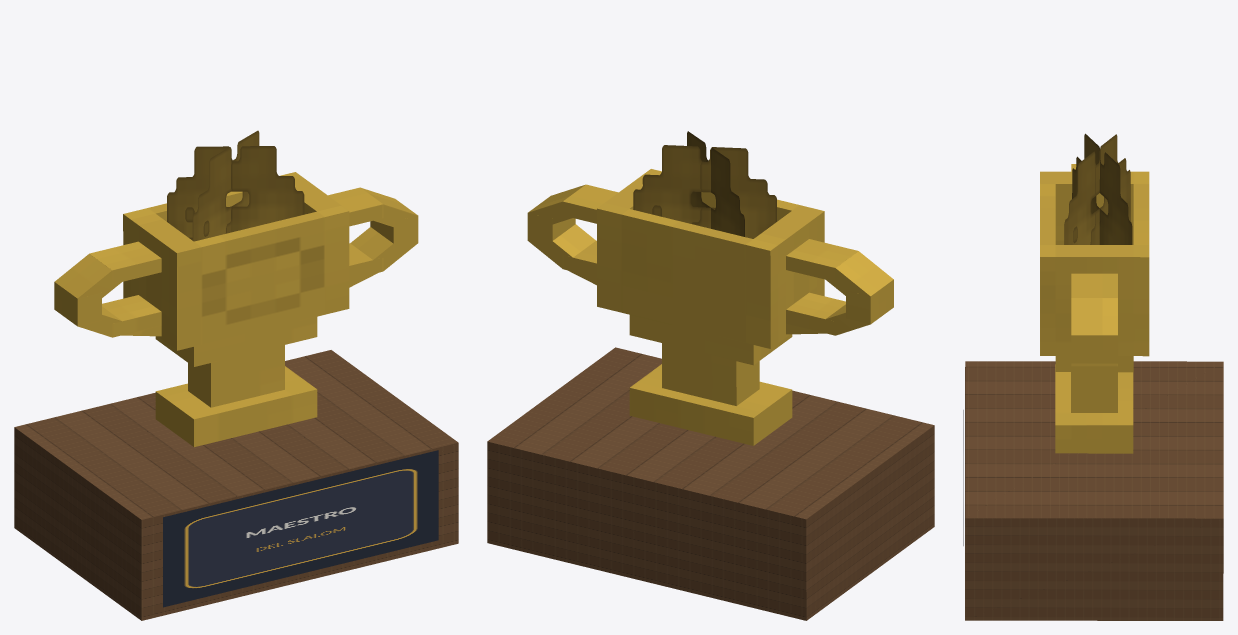
The model's file is Maestro_del_slalom.obj.
3 views of the same model, side by side, from view 1: azimuth 30°, elevation 25°; view 2: azimuth 150°, elevation 25°; view 3: azimuth 270°, elevation 25° (orthographic).
Visible parts, largest first — view 1: 35_Peana_Maestro_del_Slalom, 35_PeanaTexto_Maestro_del_Slalom, 36_ModeloOriginalSketchfab_Maestro_del_Slalom_cube_1, 36_ModeloOriginalSketchfab_Maestro_del_Slalom_cube_3, 36_ModeloOriginalSketchfab_Maestro_del_Slalom_cube_20, 36_ModeloOriginalSketchfab_Maestro_del_Slalom_cube_18, 36_ModeloOriginalSketchfab_Maestro_del_Slalom_cube_17, 36_ModeloOriginalSketchfab_Maestro_del_Slalom_cube_2, 36_ModeloOriginalSketchfab_Maestro_del_Slalom_cube_19, 36_ModeloOriginalSketchfab_Maestro_del_Slalom_cube_16, 36_ModeloOriginalSketchfab_Maestro_del_Slalom_cube_13, 36_ModeloOriginalSketchfab_Maestro_del_Slalom_cube_12 (+7 smaller); view 2: 35_Peana_Maestro_del_Slalom, 36_ModeloOriginalSketchfab_Maestro_del_Slalom_cube, 36_ModeloOriginalSketchfab_Maestro_del_Slalom_cube_3, 36_ModeloOriginalSketchfab_Maestro_del_Slalom_cube_19, 36_ModeloOriginalSketchfab_Maestro_del_Slalom_cube_18, 36_ModeloOriginalSketchfab_Maestro_del_Slalom_cube_17, 36_ModeloOriginalSketchfab_Maestro_del_Slalom_cube_2, 36_ModeloOriginalSketchfab_Maestro_del_Slalom_cube_16, 36_ModeloOriginalSketchfab_Maestro_del_Slalom_cube_20, 36_ModeloOriginalSketchfab_Maestro_del_Slalom_cube_13, 36_ModeloOriginalSketchfab_Maestro_del_Slalom_cube_12, 36_ModeloOriginalSketchfab_Maestro_del_Slalom_cube_9 (+6 smaller); view 3: 35_Peana_Maestro_del_Slalom, 36_ModeloOriginalSketchfab_Maestro_del_Slalom_cube_2, 36_ModeloOriginalSketchfab_Maestro_del_Slalom_cube_18, 36_ModeloOriginalSketchfab_Maestro_del_Slalom_cube_20, 36_ModeloOriginalSketchfab_Maestro_del_Slalom_cube_19, 36_ModeloOriginalSketchfab_Maestro_del_Slalom_cube_17, 36_ModeloOriginalSketchfab_Maestro_del_Slalom_cube_3, 36_ModeloOriginalSketchfab_Maestro_del_Slalom_cube_7, 36_ModeloOriginalSketchfab_Maestro_del_Slalom_cube_8, 36_ModeloOriginalSketchfab_Maestro_del_Slalom_cube_4, 36_ModeloOriginalSketchfab_Maestro_del_Slalom_cube, 36_ModeloOriginalSketchfab_Maestro_del_Slalom_cube_1 (+1 smaller).
Part boxes in pixels (x1,y1,x2,y2): 35_Peana_Maestro_del_Slalom: (14, 350, 458, 620); 35_PeanaTexto_Maestro_del_Slalom: (163, 450, 438, 607); 36_ModeloOriginalSketchfab_Maestro_del_Slalom_cube_1: (194, 211, 324, 344); 36_ModeloOriginalSketchfab_Maestro_del_Slalom_cube_3: (123, 208, 201, 350); 36_ModeloOriginalSketchfab_Maestro_del_Slalom_cube_20: (167, 146, 304, 240); 36_ModeloOriginalSketchfab_Maestro_del_Slalom_cube_18: (155, 366, 317, 447); 36_ModeloOriginalSketchfab_Maestro_del_Slalom_cube_17: (188, 345, 284, 407); 36_ModeloOriginalSketchfab_Maestro_del_Slalom_cube_2: (280, 172, 349, 314); 36_ModeloOriginalSketchfab_Maestro_del_Slalom_cube_19: (192, 130, 259, 241); 36_ModeloOriginalSketchfab_Maestro_del_Slalom_cube_16: (155, 316, 317, 366); 36_ModeloOriginalSketchfab_Maestro_del_Slalom_cube_13: (89, 241, 161, 284); 36_ModeloOriginalSketchfab_Maestro_del_Slalom_cube_12: (55, 253, 121, 298); 35_Peana_Maestro_del_Slalom: (487, 347, 934, 620); 36_ModeloOriginalSketchfab_Maestro_del_Slalom_cube: (621, 209, 752, 342); 36_ModeloOriginalSketchfab_Maestro_del_Slalom_cube_3: (745, 205, 824, 348); 36_ModeloOriginalSketchfab_Maestro_del_Slalom_cube_19: (633, 145, 776, 238); 36_ModeloOriginalSketchfab_Maestro_del_Slalom_cube_18: (629, 364, 792, 445); 36_ModeloOriginalSketchfab_Maestro_del_Slalom_cube_17: (662, 343, 759, 405); 36_ModeloOriginalSketchfab_Maestro_del_Slalom_cube_2: (597, 169, 661, 312); 36_ModeloOriginalSketchfab_Maestro_del_Slalom_cube_16: (629, 315, 792, 365); 36_ModeloOriginalSketchfab_Maestro_del_Slalom_cube_20: (687, 131, 744, 236); 36_ModeloOriginalSketchfab_Maestro_del_Slalom_cube_13: (786, 239, 858, 281); 36_ModeloOriginalSketchfab_Maestro_del_Slalom_cube_12: (826, 251, 893, 296); 36_ModeloOriginalSketchfab_Maestro_del_Slalom_cube_9: (786, 292, 845, 335); 35_Peana_Maestro_del_Slalom: (965, 361, 1223, 620); 36_ModeloOriginalSketchfab_Maestro_del_Slalom_cube_2: (1040, 245, 1149, 356); 36_ModeloOriginalSketchfab_Maestro_del_Slalom_cube_18: (1055, 364, 1133, 453); 36_ModeloOriginalSketchfab_Maestro_del_Slalom_cube_20: (1064, 134, 1130, 244); 36_ModeloOriginalSketchfab_Maestro_del_Slalom_cube_19: (1072, 133, 1132, 244); 36_ModeloOriginalSketchfab_Maestro_del_Slalom_cube_17: (1071, 372, 1117, 412); 36_ModeloOriginalSketchfab_Maestro_del_Slalom_cube_3: (1040, 171, 1149, 244); 36_ModeloOriginalSketchfab_Maestro_del_Slalom_cube_7: (1071, 298, 1117, 335); 36_ModeloOriginalSketchfab_Maestro_del_Slalom_cube_8: (1071, 335, 1117, 363); 36_ModeloOriginalSketchfab_Maestro_del_Slalom_cube_4: (1071, 273, 1117, 297); 36_ModeloOriginalSketchfab_Maestro_del_Slalom_cube: (1133, 184, 1149, 244); 36_ModeloOriginalSketchfab_Maestro_del_Slalom_cube_1: (1040, 183, 1055, 244).
Size of the model in its own units: 0.4548 by 0.6303 by 0.2964.
